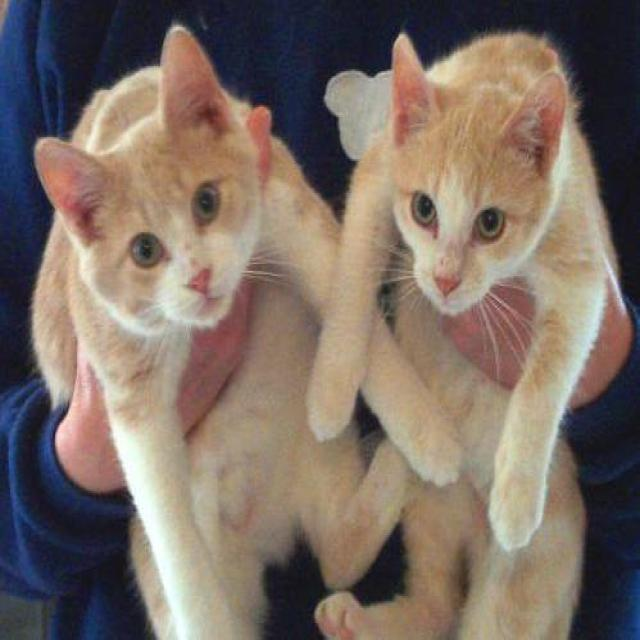cat: (21, 13, 468, 635), (294, 14, 639, 588)
